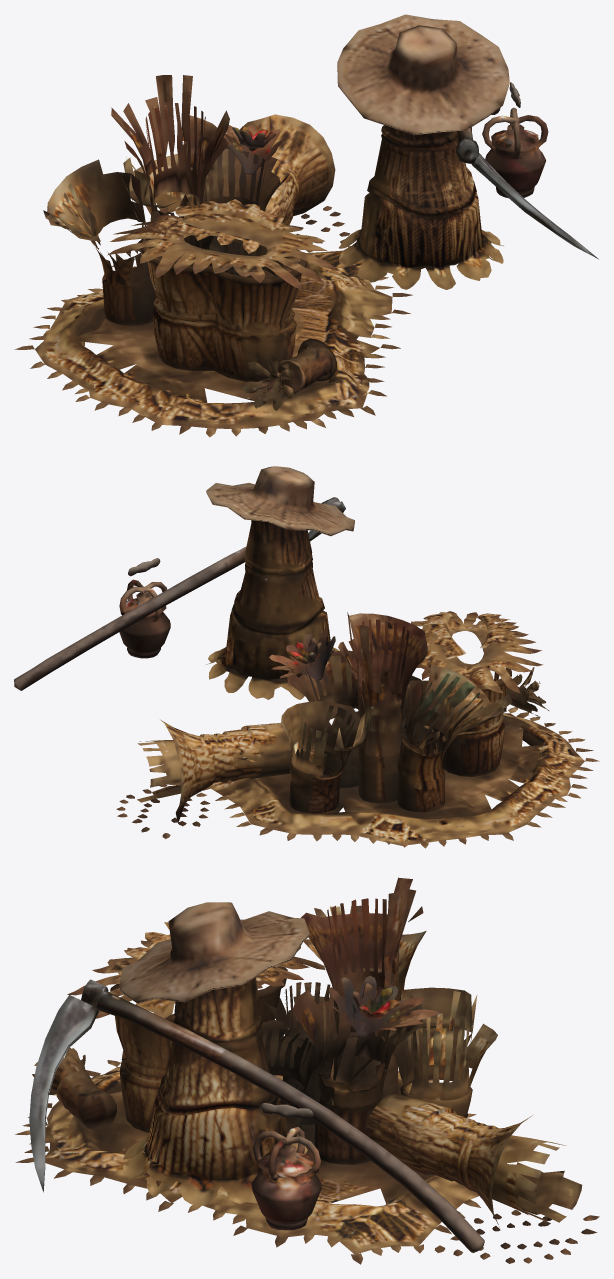
File: act1_kit_v1_abandoned_reaping.glb
The picture shows the model from 3 angles, top to bottom: view 1: azimuth 30°, elevation 25°; view 2: azimuth 150°, elevation 25°; view 3: azimuth 270°, elevation 25°; orthographic projection. The views are drawn at different scales.
Visible parts, largest first — view 1: act1_kit_v1_abandoned_reaping; view 2: act1_kit_v1_abandoned_reaping; view 3: act1_kit_v1_abandoned_reaping.
Part boxes in pixels (x1,y1,x2,y2): act1_kit_v1_abandoned_reaping: (14, 14, 598, 437); act1_kit_v1_abandoned_reaping: (14, 466, 599, 848); act1_kit_v1_abandoned_reaping: (15, 877, 599, 1264).
Bounding box in the file's own units: 1 × 0.5132 × 0.8261.
1 material, 1 textured.
